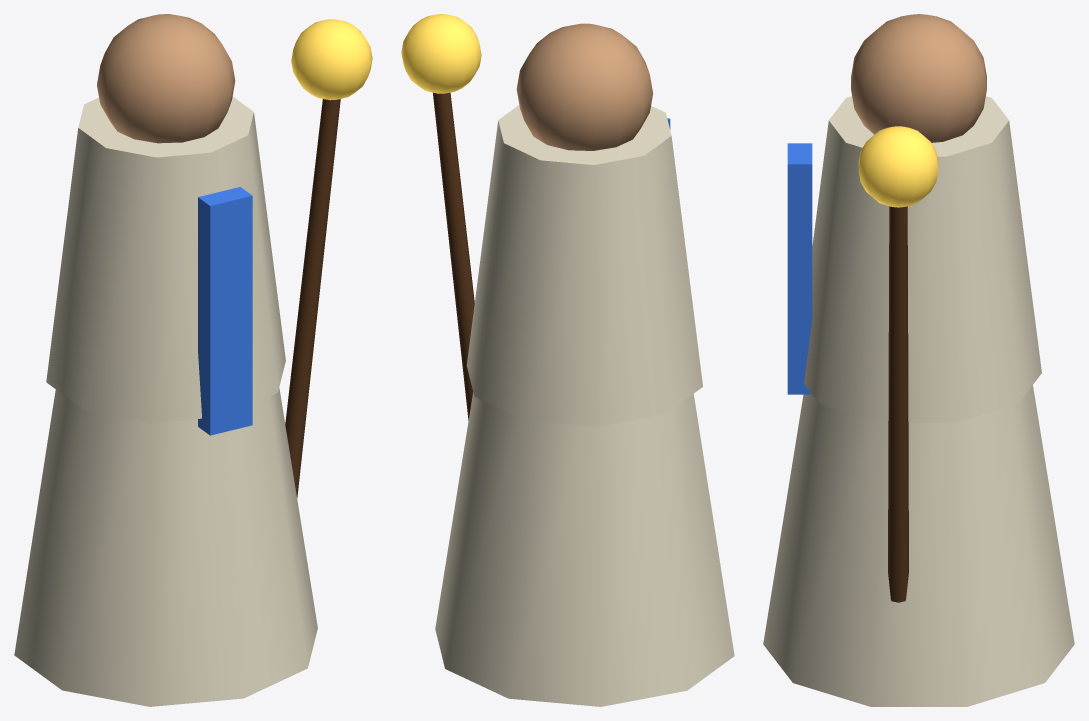
The model's file is priest.glb.
3 views of the same model, side by side, from view 1: azimuth 30°, elevation 25°; view 2: azimuth 150°, elevation 25°; view 3: azimuth 270°, elevation 25° (orthographic).
Visible parts, largest first — view 1: priest-robe-lower, priest-robe-upper, priest-hood-head, priest-team-stole, priest-staff-shaft, priest-holy-focus; view 2: priest-robe-lower, priest-robe-upper, priest-hood-head, priest-staff-shaft, priest-holy-focus; view 3: priest-robe-lower, priest-robe-upper, priest-hood-head, priest-staff-shaft, priest-team-stole, priest-holy-focus.
Boxes of the visible parts, x1,y1,x2,y2 form: priest-robe-lower: (14, 388, 317, 706); priest-robe-upper: (46, 96, 285, 422); priest-hood-head: (97, 14, 235, 143); priest-team-stole: (198, 187, 252, 435); priest-staff-shaft: (285, 99, 340, 498); priest-holy-focus: (291, 19, 372, 100); priest-robe-lower: (435, 392, 734, 706); priest-robe-upper: (466, 105, 702, 426); priest-hood-head: (516, 23, 653, 150); priest-staff-shaft: (433, 92, 474, 420); priest-holy-focus: (401, 14, 481, 93); priest-robe-lower: (763, 385, 1074, 706); priest-robe-upper: (804, 96, 1041, 422); priest-hood-head: (851, 14, 986, 142); priest-staff-shaft: (888, 206, 908, 602); priest-team-stole: (787, 143, 812, 394); priest-holy-focus: (858, 126, 938, 207).
Size of the model in its own units: 0.9014 by 1.68 by 0.76.
